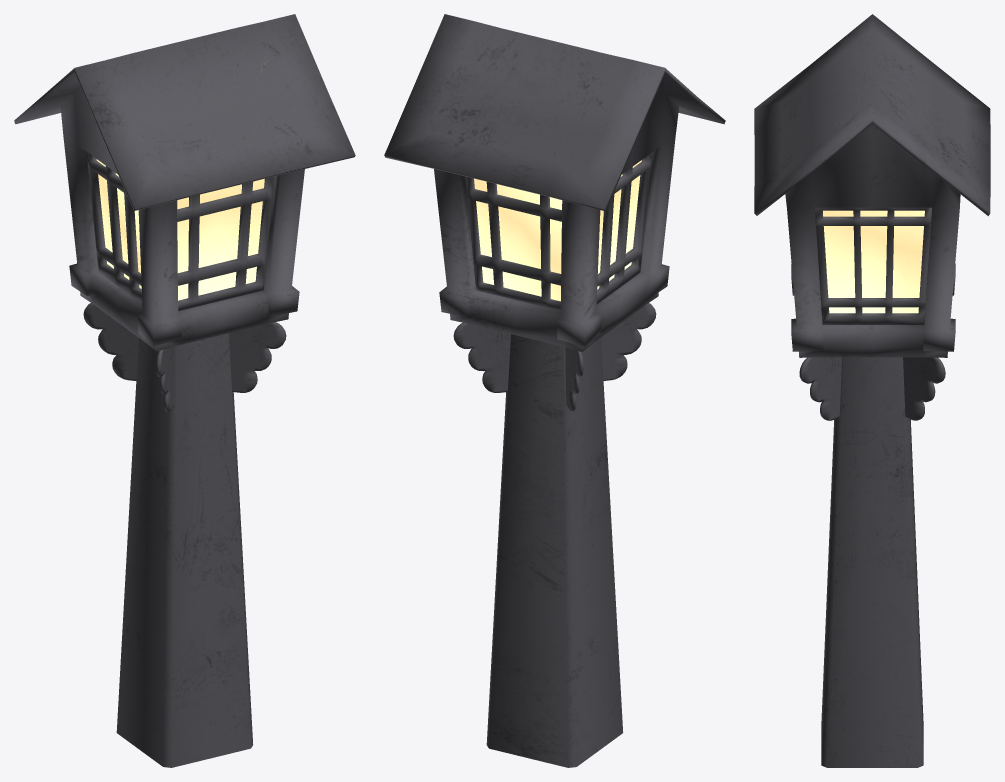
Rendered from lamppost_57ea5da0.glb.
3 views of the same model, side by side, from view 1: azimuth 30°, elevation 25°; view 2: azimuth 150°, elevation 25°; view 3: azimuth 270°, elevation 25° (orthographic). The views are drawn at different scales.
Parts seen in each view (by area): view 1: boite_LP_Boite_LP_0, pied_LP_Boite_LP_0, cage_LP_cage_LP_0, fiori_LP_Boite_LP_0; view 2: boite_LP_Boite_LP_0, pied_LP_Boite_LP_0, cage_LP_cage_LP_0, fiori_LP_Boite_LP_0; view 3: boite_LP_Boite_LP_0, pied_LP_Boite_LP_0, cage_LP_cage_LP_0, fiori_LP_Boite_LP_0.
Boxes of the visible parts, x1,y1,x2,y2 form: boite_LP_Boite_LP_0: (14, 14, 355, 351); pied_LP_Boite_LP_0: (116, 333, 253, 767); cage_LP_cage_LP_0: (86, 152, 274, 310); fiori_LP_Boite_LP_0: (83, 303, 286, 411); boite_LP_Boite_LP_0: (384, 14, 725, 351); pied_LP_Boite_LP_0: (486, 334, 623, 767); cage_LP_cage_LP_0: (465, 152, 652, 310); fiori_LP_Boite_LP_0: (453, 303, 656, 411); boite_LP_Boite_LP_0: (754, 14, 990, 357); pied_LP_Boite_LP_0: (821, 357, 923, 767); cage_LP_cage_LP_0: (815, 207, 931, 324); fiori_LP_Boite_LP_0: (799, 357, 945, 420).
Bounding box in the file's own units: 41.1 × 124 × 39.12.
Materials: 2 (2 with a texture image).
